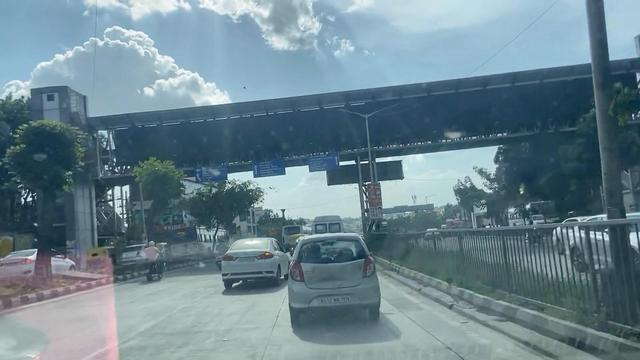LMV: (292, 238, 375, 304), (227, 243, 263, 282), (148, 240, 166, 282)
